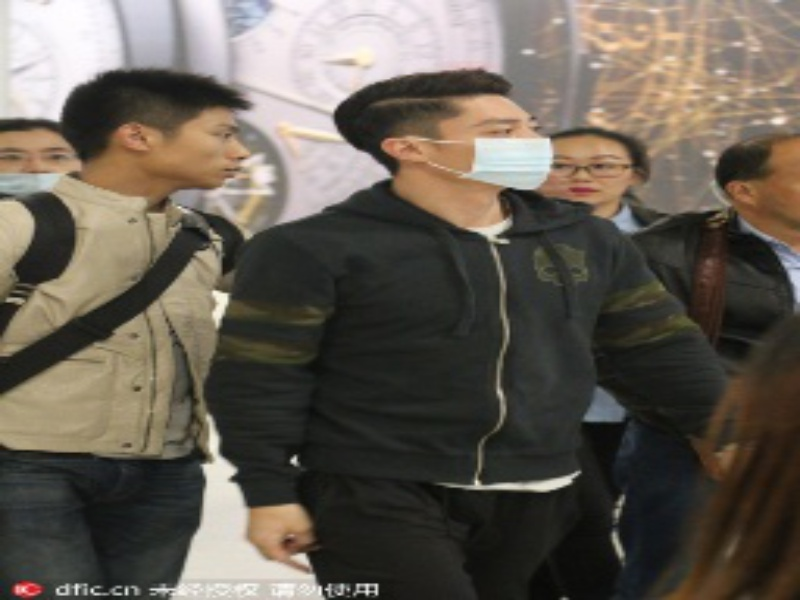ManaoArotava: (399, 65, 567, 213)
TsisyArotava: (128, 67, 271, 215), (532, 102, 640, 221)
